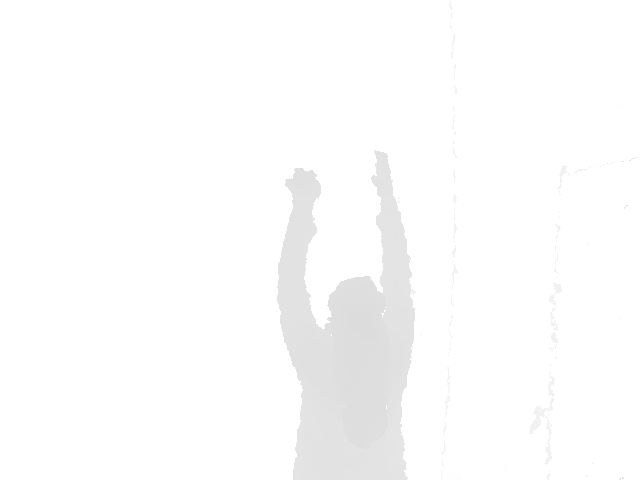hand: (284, 167, 322, 204), (370, 150, 395, 195)
head: (327, 274, 387, 335)
person: (275, 149, 417, 480)
